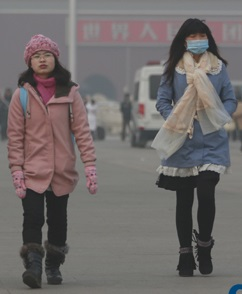person: (150, 17, 238, 279), (9, 29, 95, 289), (117, 92, 137, 142), (86, 99, 99, 140), (3, 87, 14, 103)
